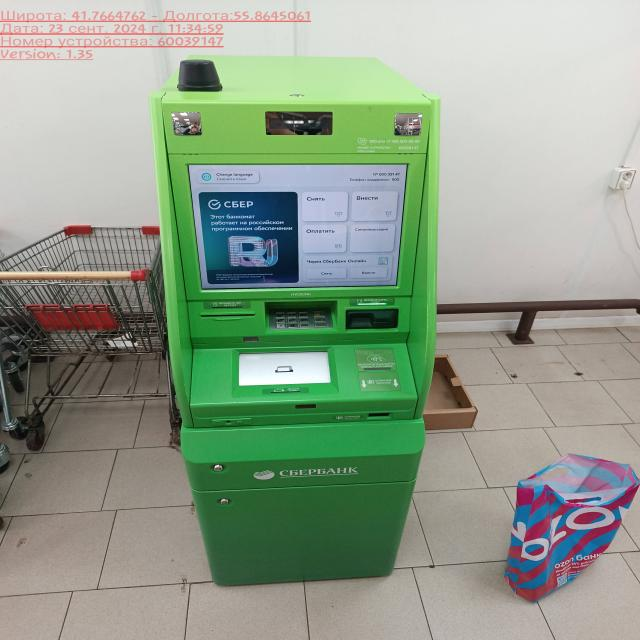bank: (150, 50, 437, 590)
